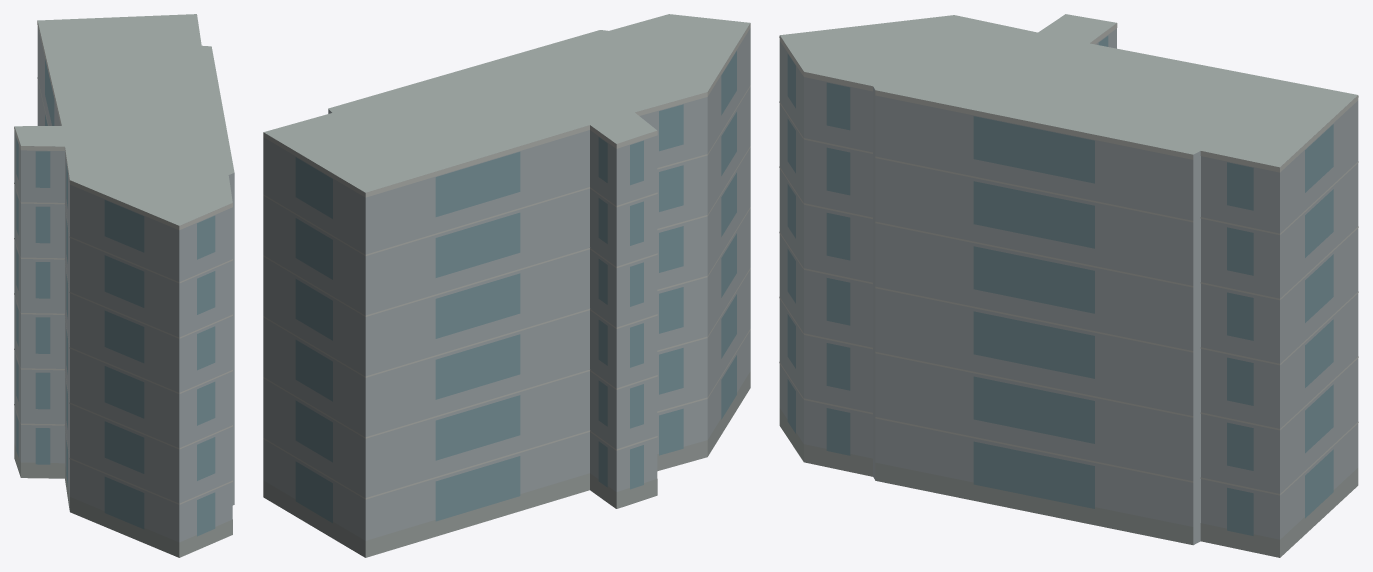
File: survey-upis-33035027.glb
3 views of the same model, side by side, from view 1: azimuth 30°, elevation 25°; view 2: azimuth 150°, elevation 25°; view 3: azimuth 270°, elevation 25° (orthographic). The views are drawn at different scales.
Parts seen in each view (by area): view 1: survey-upis-33035027.tmp; view 2: survey-upis-33035027.tmp; view 3: survey-upis-33035027.tmp.
Part boxes in pixels (x1=…): survey-upis-33035027.tmp: x1=14, y1=14, x2=234, y2=557; survey-upis-33035027.tmp: x1=263, y1=14, x2=750, y2=557; survey-upis-33035027.tmp: x1=779, y1=14, x2=1358, y2=557.
Size of the model in its own units: 15.27 by 18.1 by 24.32.
